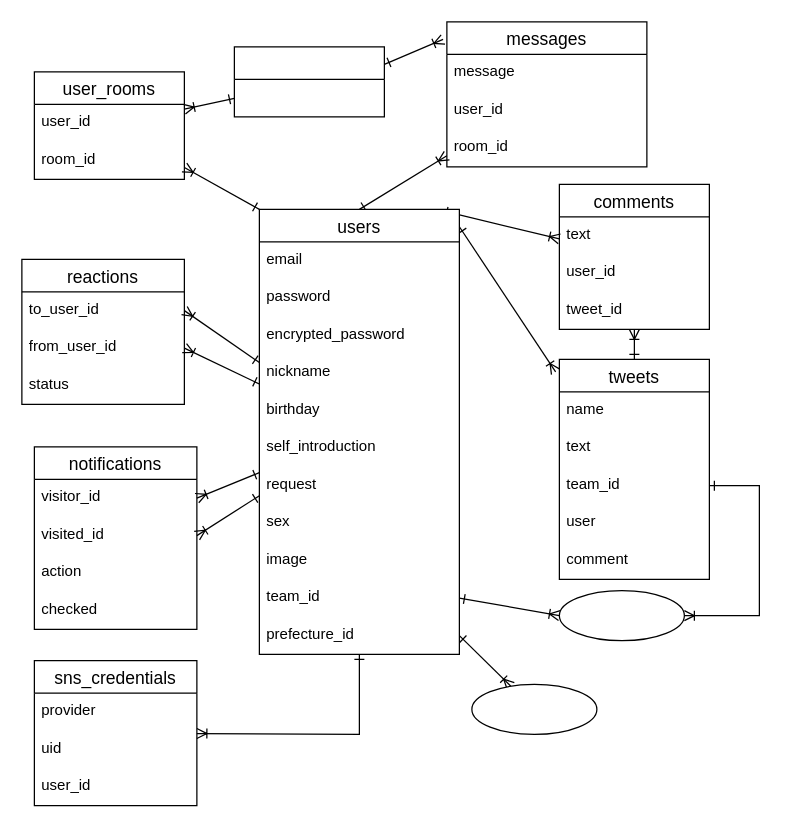
This 793x831 diagram has some shape labels left out. Each missing label, with the centre of its shape:
"prefecture" belongs at (534,708).
"rooms" belongs at (308,81).
"team" belongs at (621,615).
